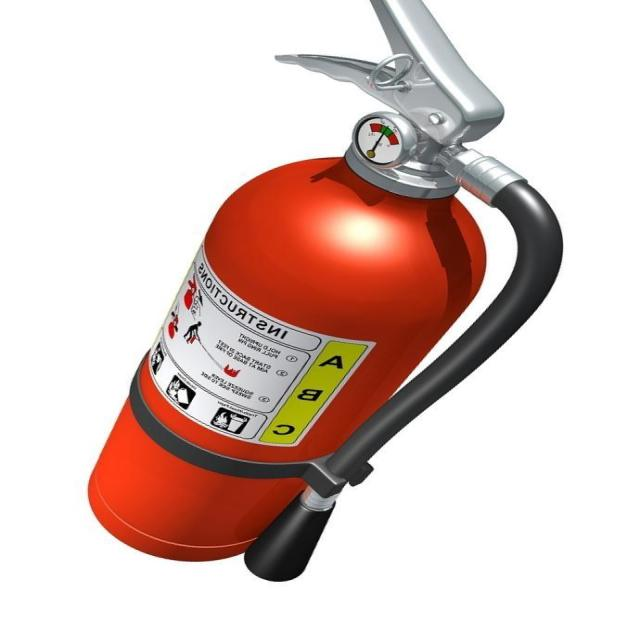fire_extinguisher: (78, 0, 577, 585)
